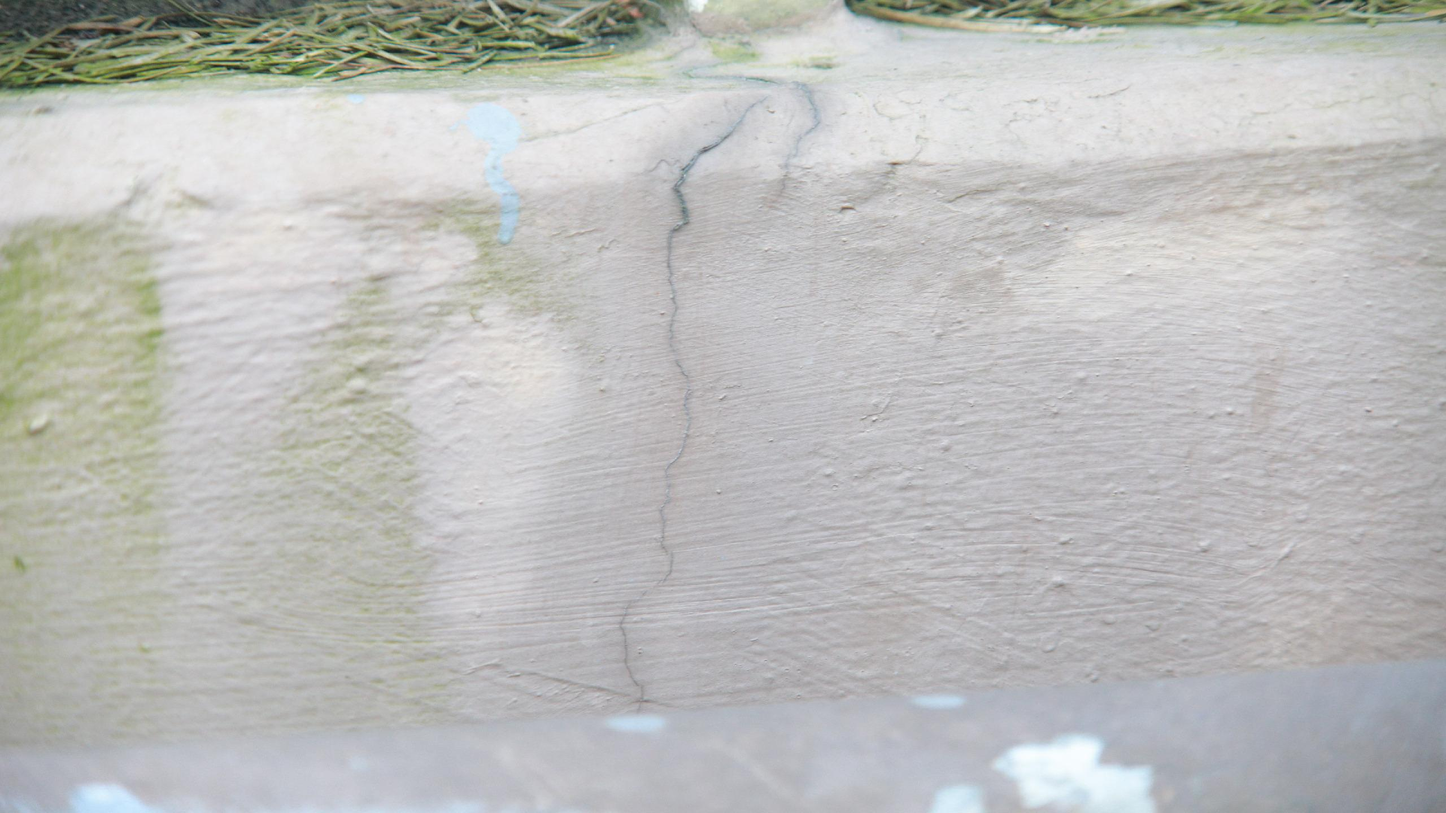crack: (603, 94, 769, 715)
